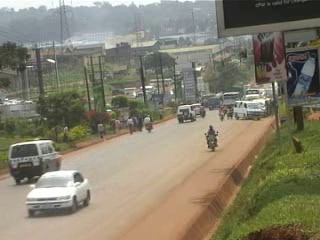Car: (23, 165, 92, 219), (172, 100, 197, 126), (192, 103, 206, 118)
Motorcycle: (203, 123, 224, 154), (142, 113, 154, 135), (216, 104, 227, 124), (197, 103, 207, 119)
